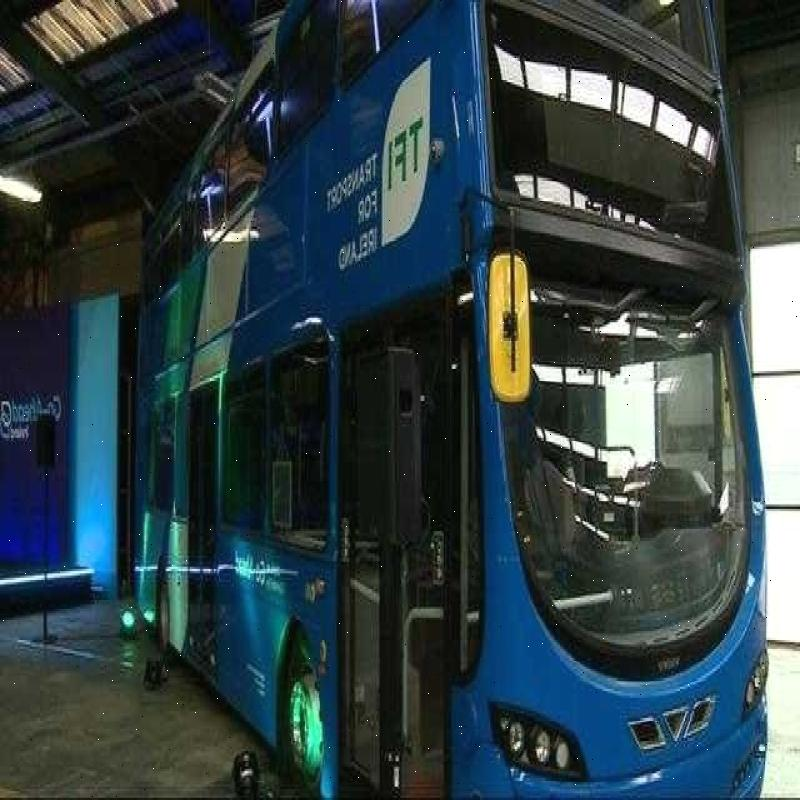bus: (80, 46, 756, 800)
